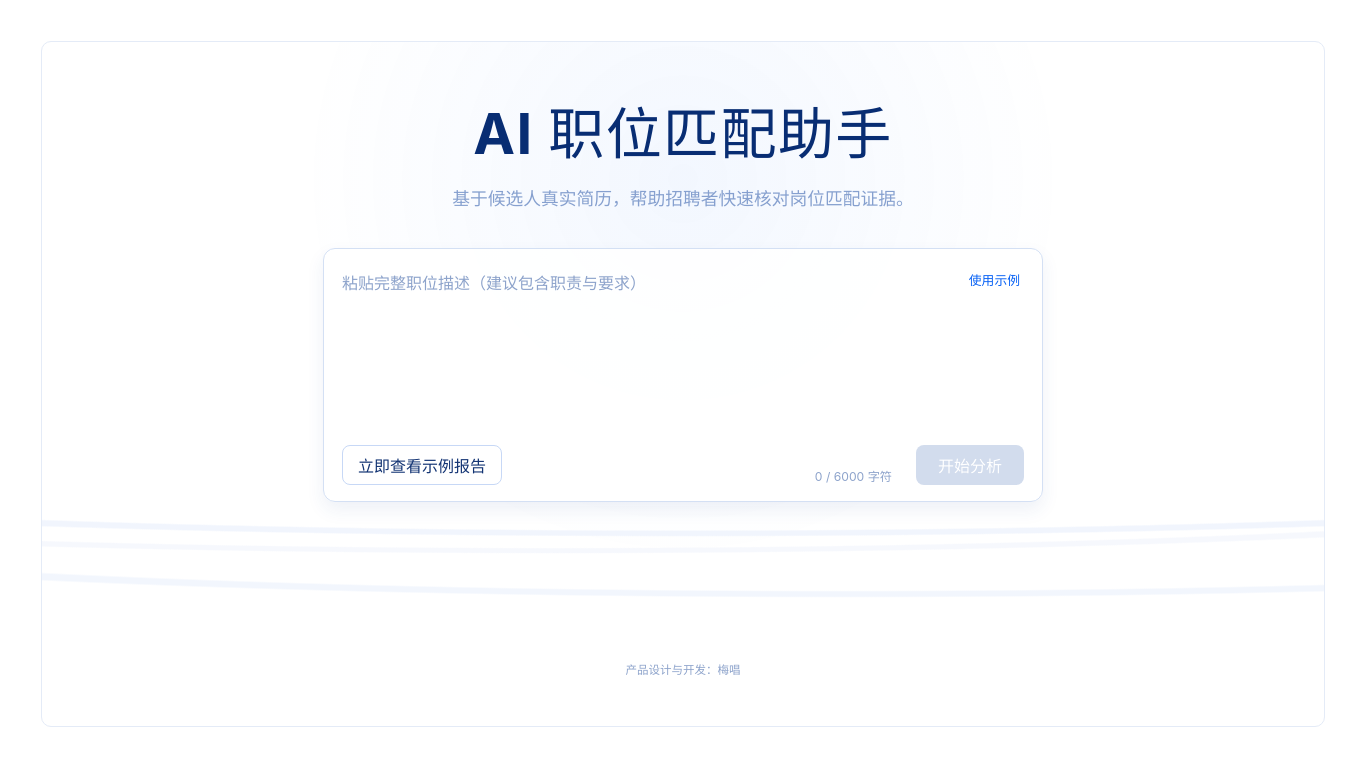
Test: Goal 4 recruiter workspace › maps Not Helpful to rating 1
The width and height of the screenshot is (1366, 768).
Click the button "使用示例".
click(994, 280)  # box 965,266 -> 1024,293
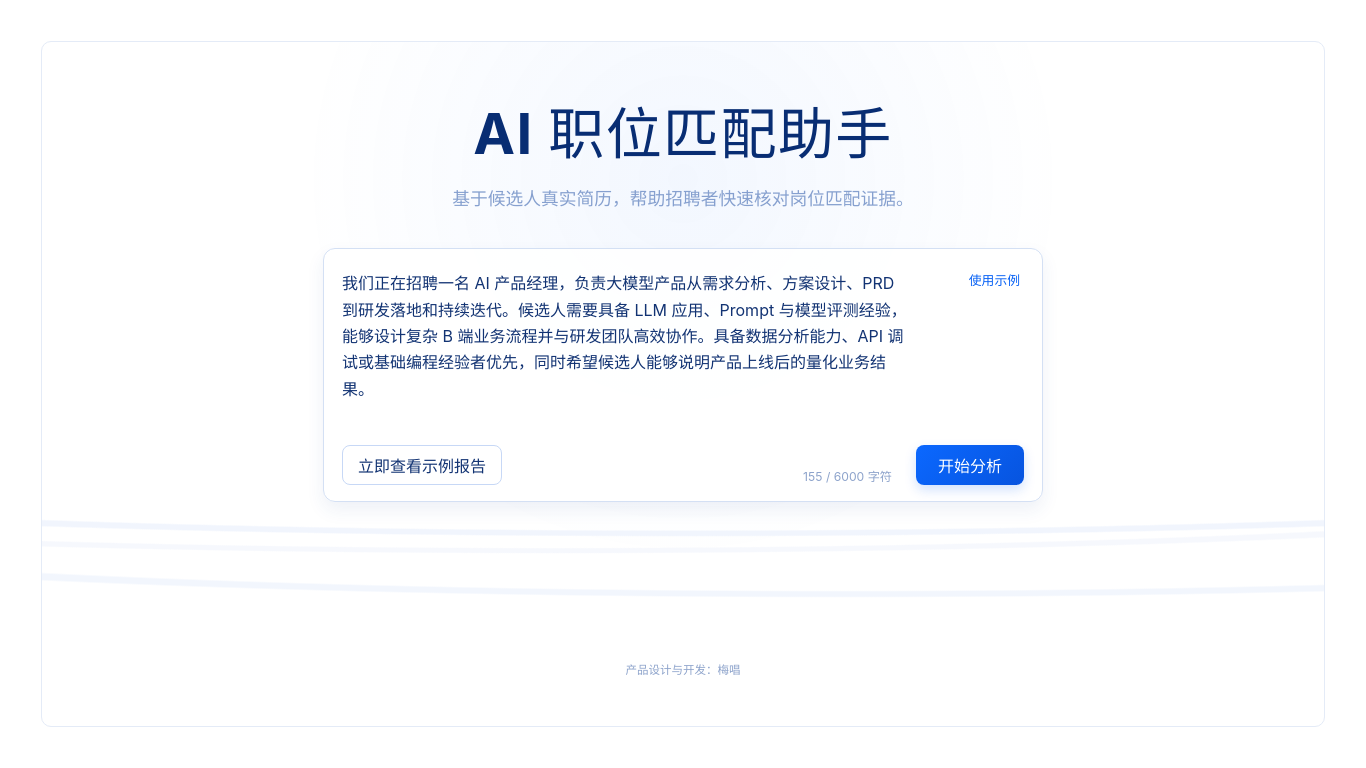
Click the button "开始分析".
click(970, 465)  # box 916,445 -> 1024,485
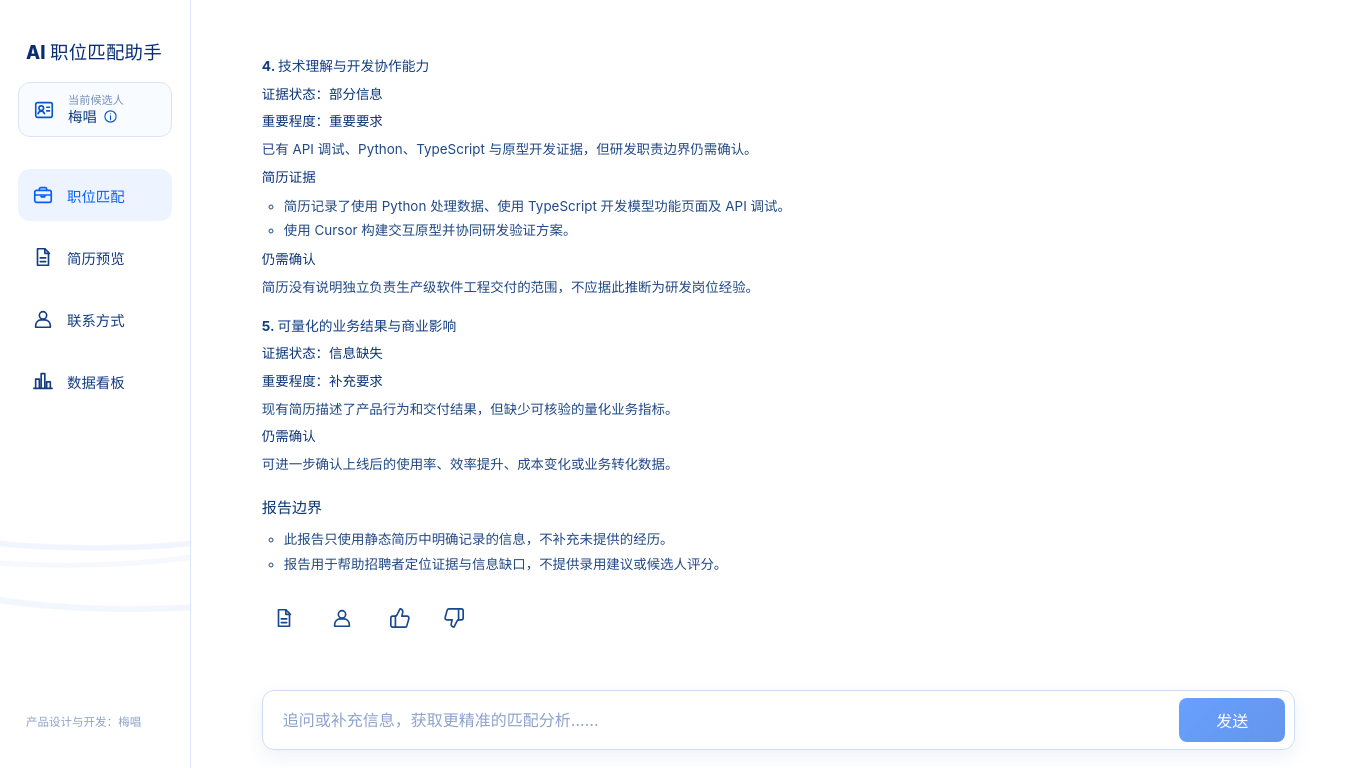
Click the button named "回答没有帮助".
click(454, 618)  # box 432,596 -> 476,640
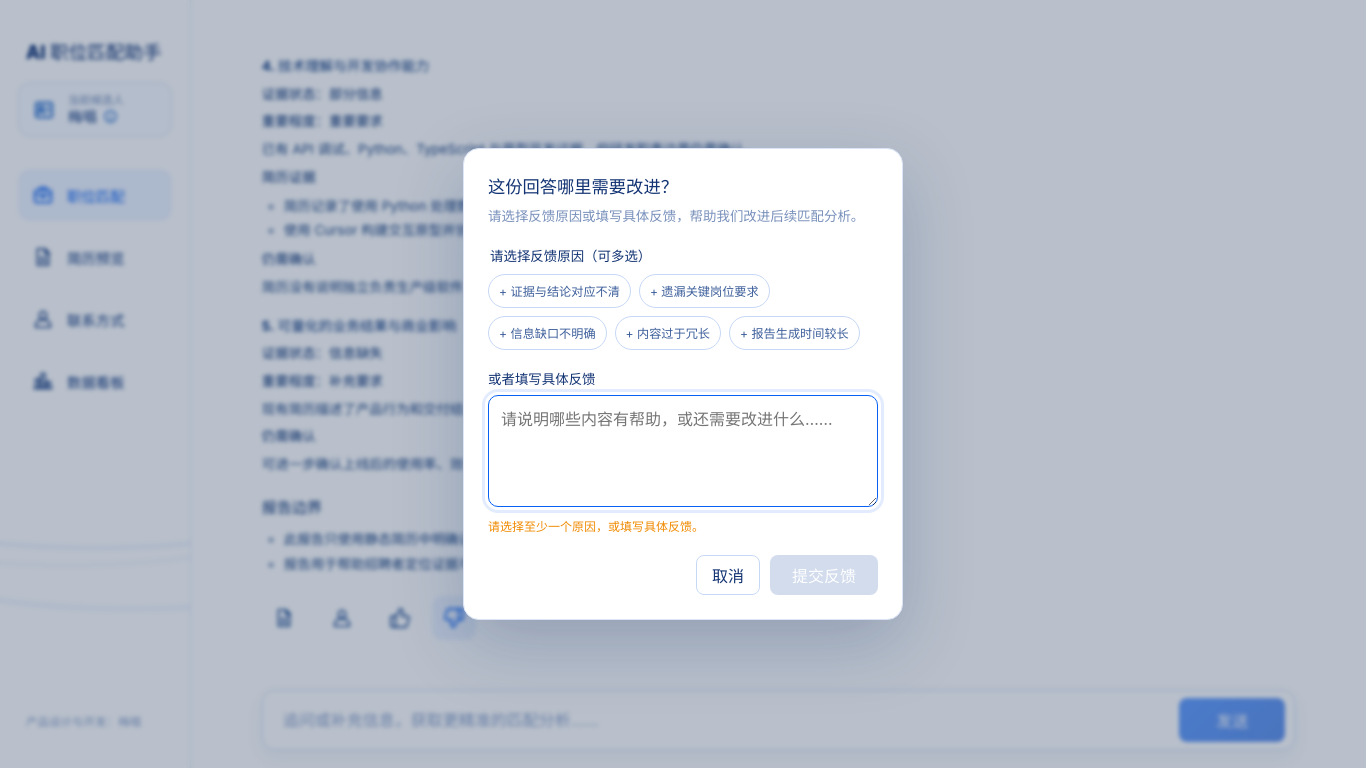
Check: the dialog "这份回答哪里需要改进？" is shown, box 463,148 -> 903,620
Check: the button "+ 报告生成时间较长" is shown, box 729,316 -> 860,350
Check: the button "提交反馈" is disabled, box 770,555 -> 878,595
Click the button "+ 遗漏关键岗位要求".
click(704, 291)  # box 639,274 -> 770,308
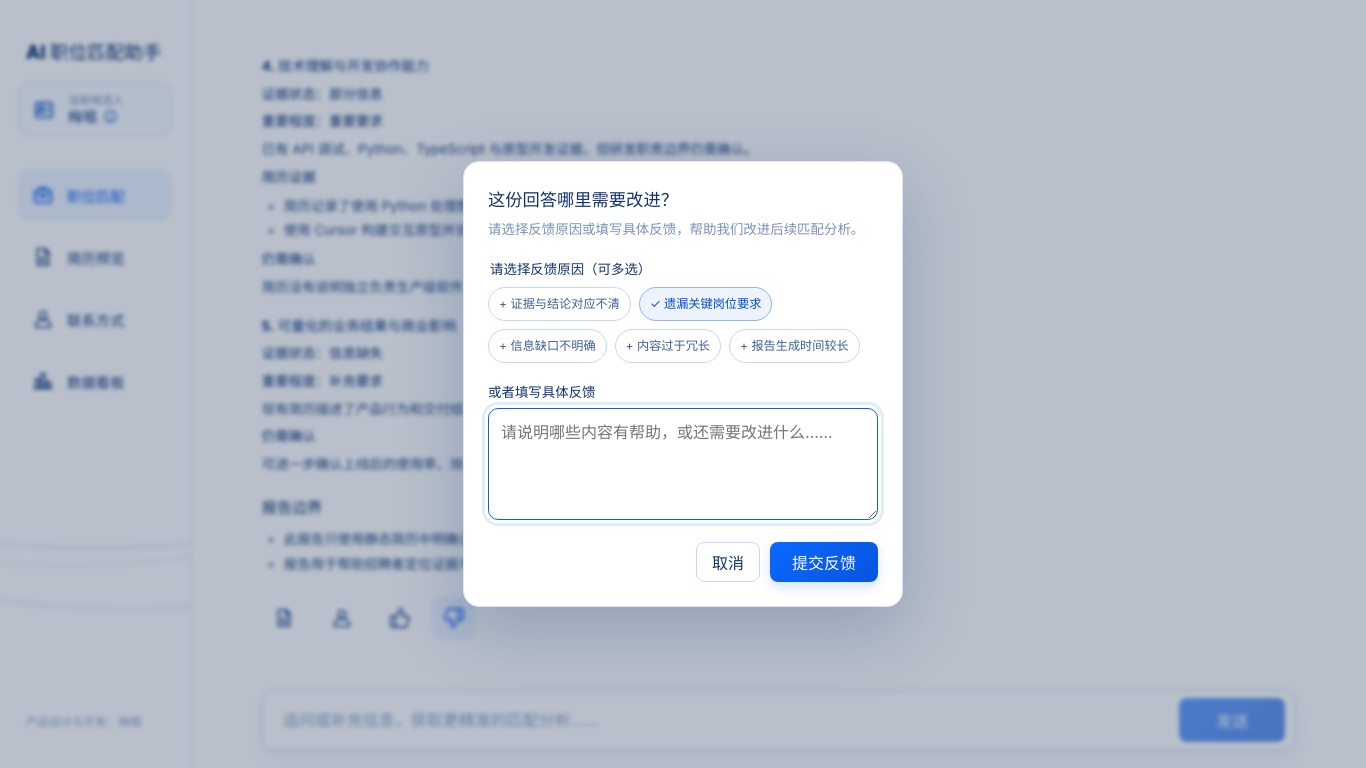
Check: the button "提交反馈" is enabled
Click the button "提交反馈".
click(824, 562)  # box 770,542 -> 878,582
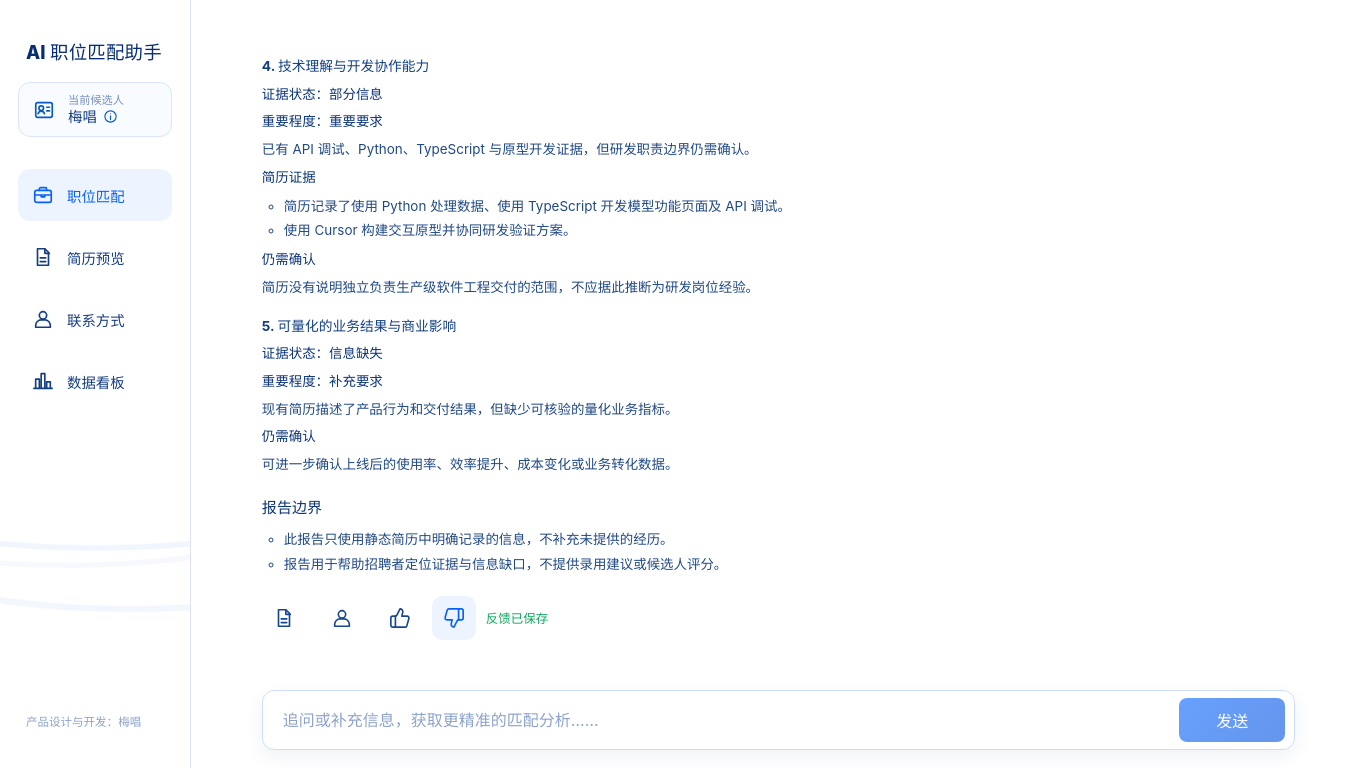
Check: the text "反馈已保存" is shown, box 486,609 -> 548,627
